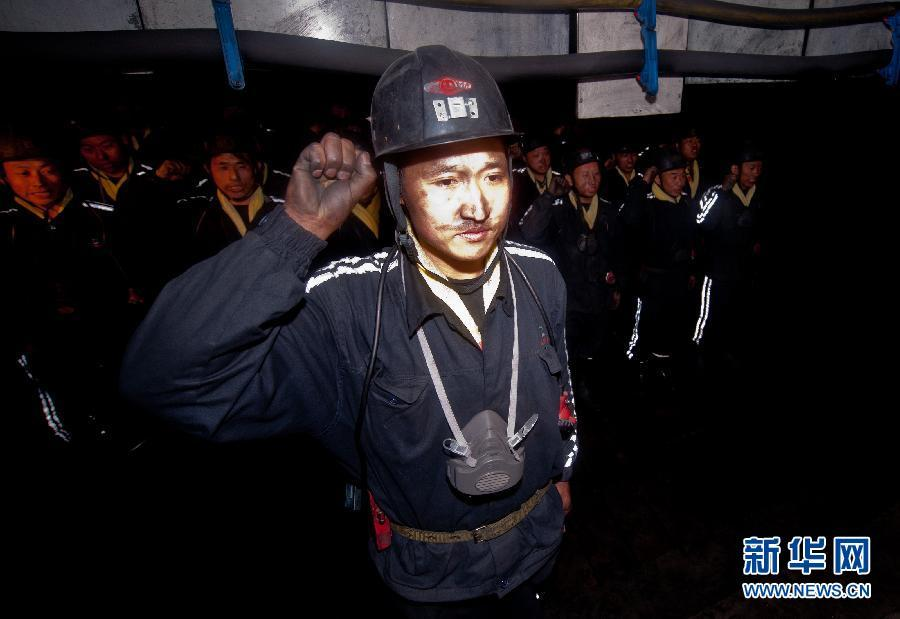helmet: (351, 47, 533, 265)
